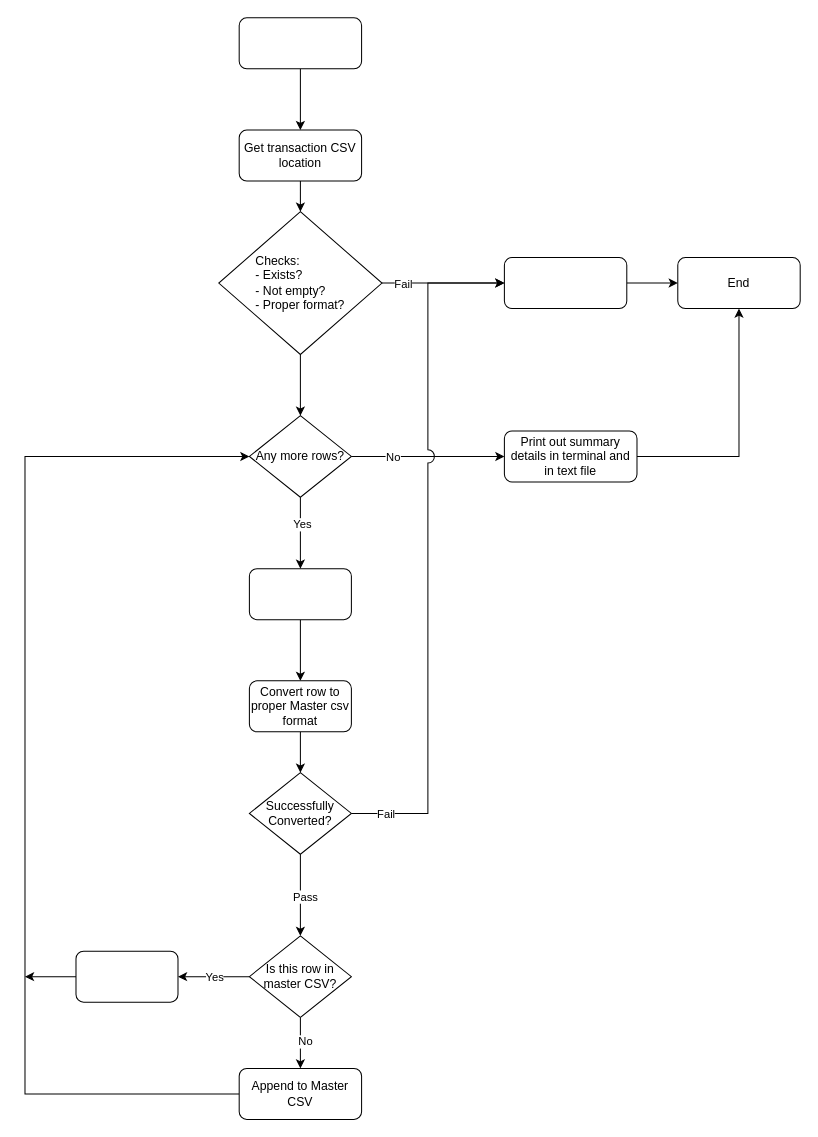
Some shapes in this 818 by 1137 pixel diagram are drawn without their labels. Each missing label, with the centre of its shape:
Go to next row: (x=299, y=594)
Print error message: (x=565, y=283)
Print this out to make note, then skip: (x=126, y=976)
Start script: (x=300, y=43)
